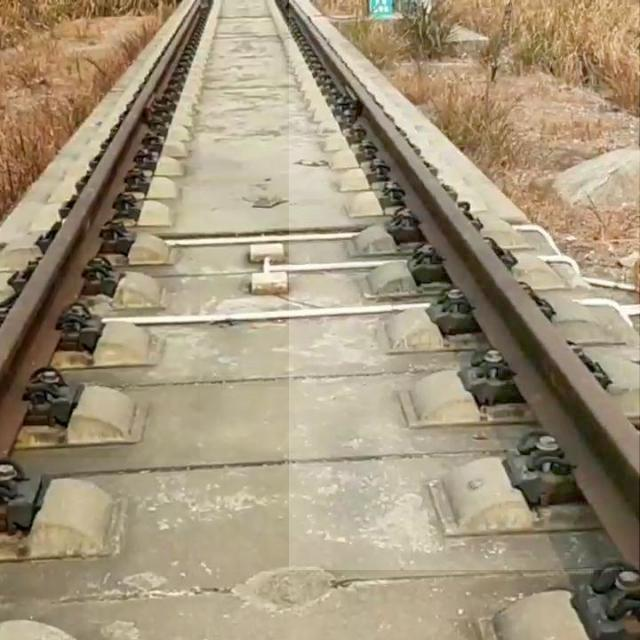rail: (291, 1, 640, 571), (1, 1, 201, 459)
